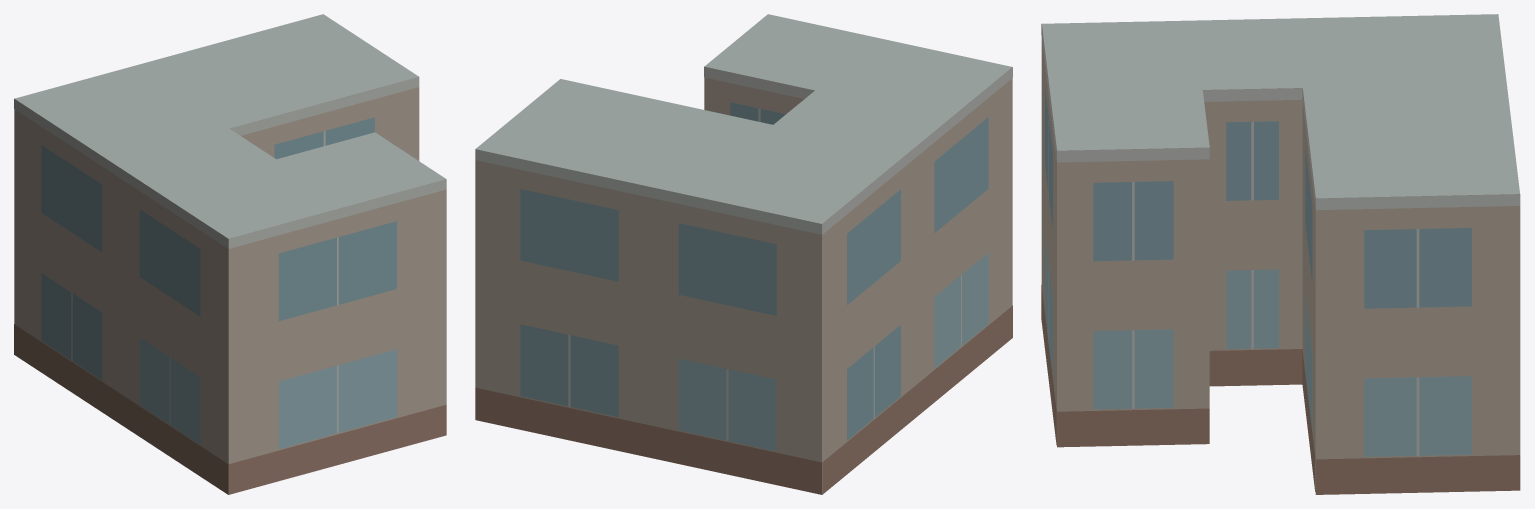
The model's file is survey-upis-32955323.glb.
3 renders of one model, left to right at view 1: azimuth 30°, elevation 25°; view 2: azimuth 150°, elevation 25°; view 3: azimuth 270°, elevation 25°, orthographic. The views are drawn at different scales.
Visible parts, largest first — view 1: survey-upis-32955323.tmp; view 2: survey-upis-32955323.tmp; view 3: survey-upis-32955323.tmp.
Part boxes in pixels (x1,y1,x2,y2): survey-upis-32955323.tmp: (14,14,446,494); survey-upis-32955323.tmp: (475,14,1012,494); survey-upis-32955323.tmp: (1041,14,1520,494).
Size of the model in its own units: 8.14 by 6.1 by 8.93.
